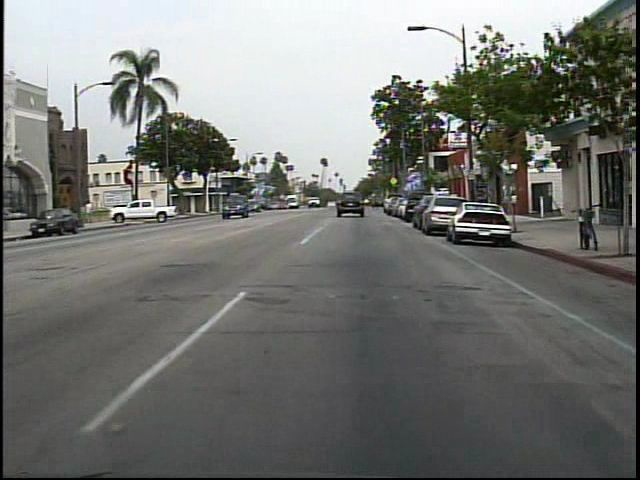person: (86, 199, 97, 229), (369, 191, 380, 216)
